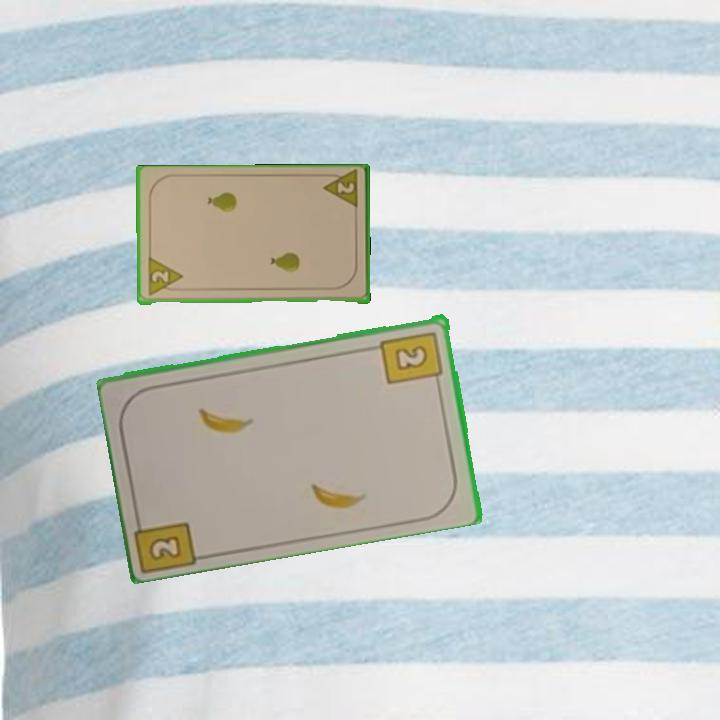2b: (132, 508, 202, 573), (378, 327, 446, 388)
2p: (319, 169, 361, 213), (144, 256, 185, 299)
